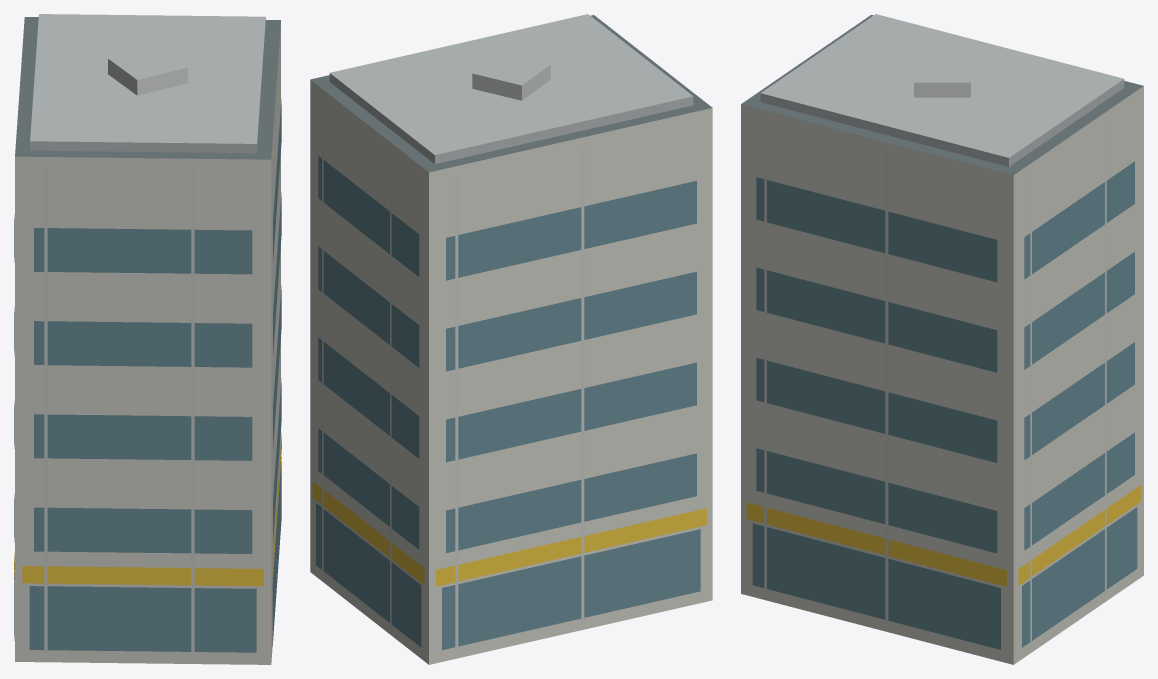
The picture shows the model from 3 angles, left to right: view 1: azimuth 30°, elevation 25°; view 2: azimuth 150°, elevation 25°; view 3: azimuth 270°, elevation 25°; orthographic projection. The views are drawn at different scales.
Visible parts, largest first — view 1: matsuya-hakata-ekimae; view 2: matsuya-hakata-ekimae; view 3: matsuya-hakata-ekimae.
Boxes of the visible parts, left/top/right/bottom form: matsuya-hakata-ekimae: left=14, top=14, right=281, bottom=664; matsuya-hakata-ekimae: left=310, top=14, right=712, bottom=664; matsuya-hakata-ekimae: left=741, top=14, right=1143, bottom=664.
Bounding box in the file's own units: 13.34 × 19.92 × 14.15.
